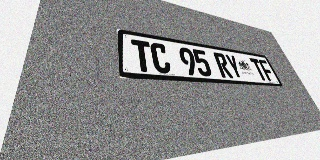5: (192, 49, 213, 77)
9: (178, 46, 199, 76)
C: (150, 42, 172, 74)
F: (258, 59, 276, 81)
R: (213, 52, 234, 78)
T: (131, 39, 154, 73), (249, 58, 268, 81)
Y: (224, 54, 244, 79)
